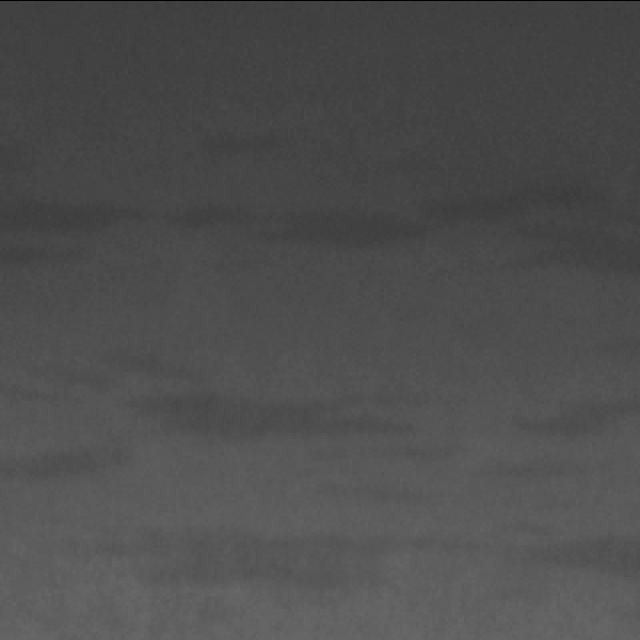inclusion: (120, 374, 434, 462), (109, 511, 402, 596), (0, 416, 150, 515), (502, 519, 640, 595)
